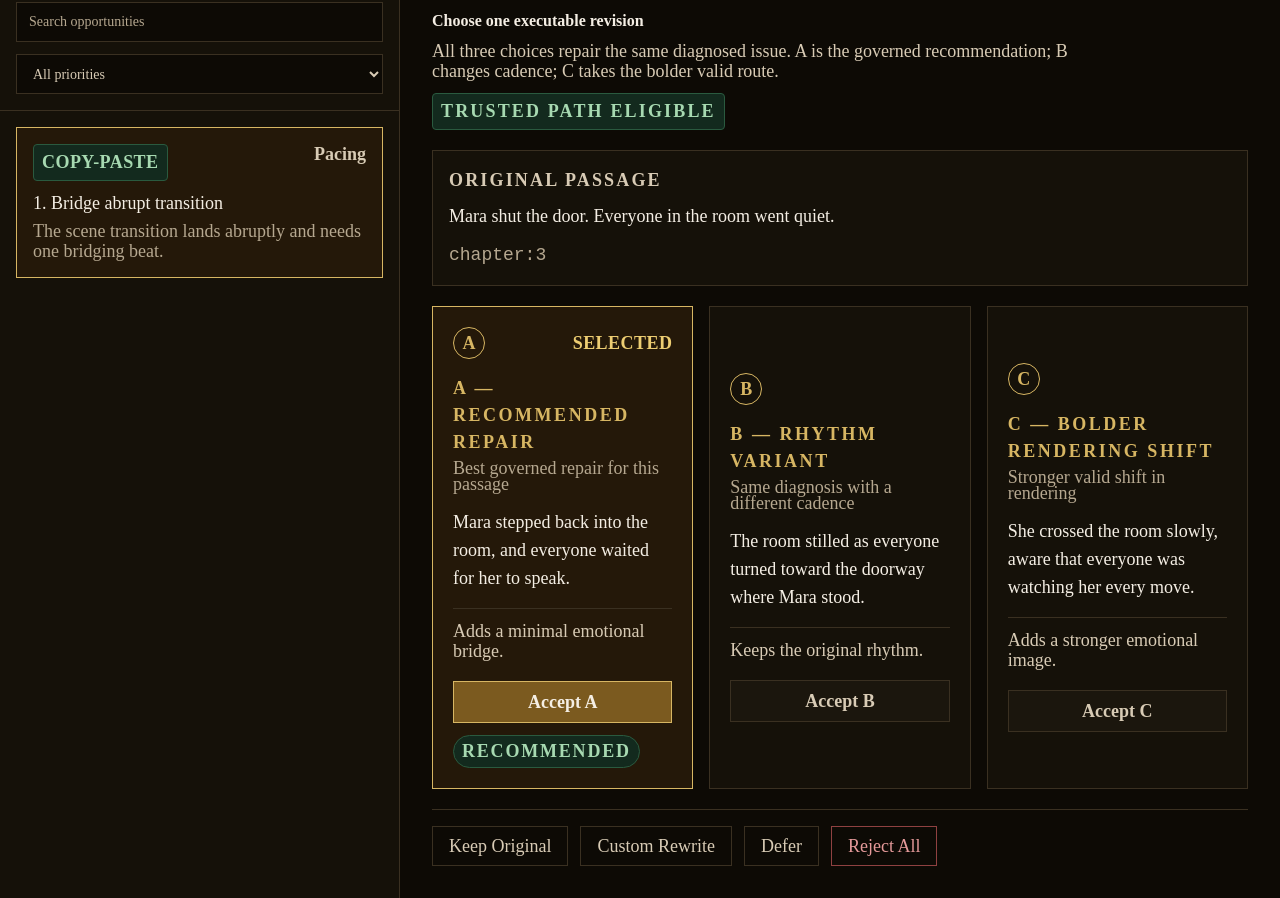
Test: ReviseCockpitClientWorkflowV2 › persists an accepted candidate through the revision ledger endpoint
The width and height of the screenshot is (1280, 898).
(page scrolled)
Click the button "Accept A": (563, 702) [453,681,672,723]
(page scrolled)
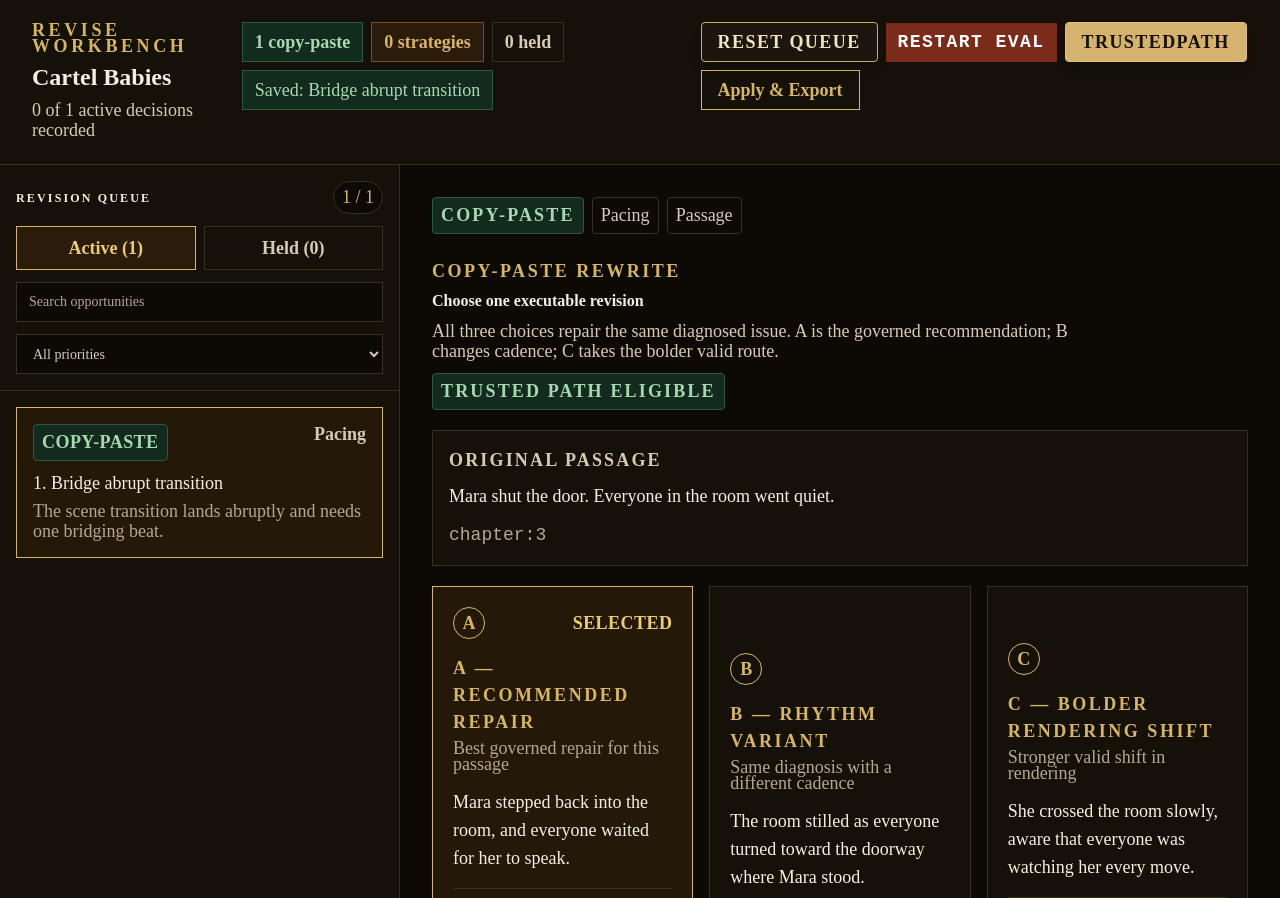
Expected: the message shows "Saved:", [255,80,480,100]
